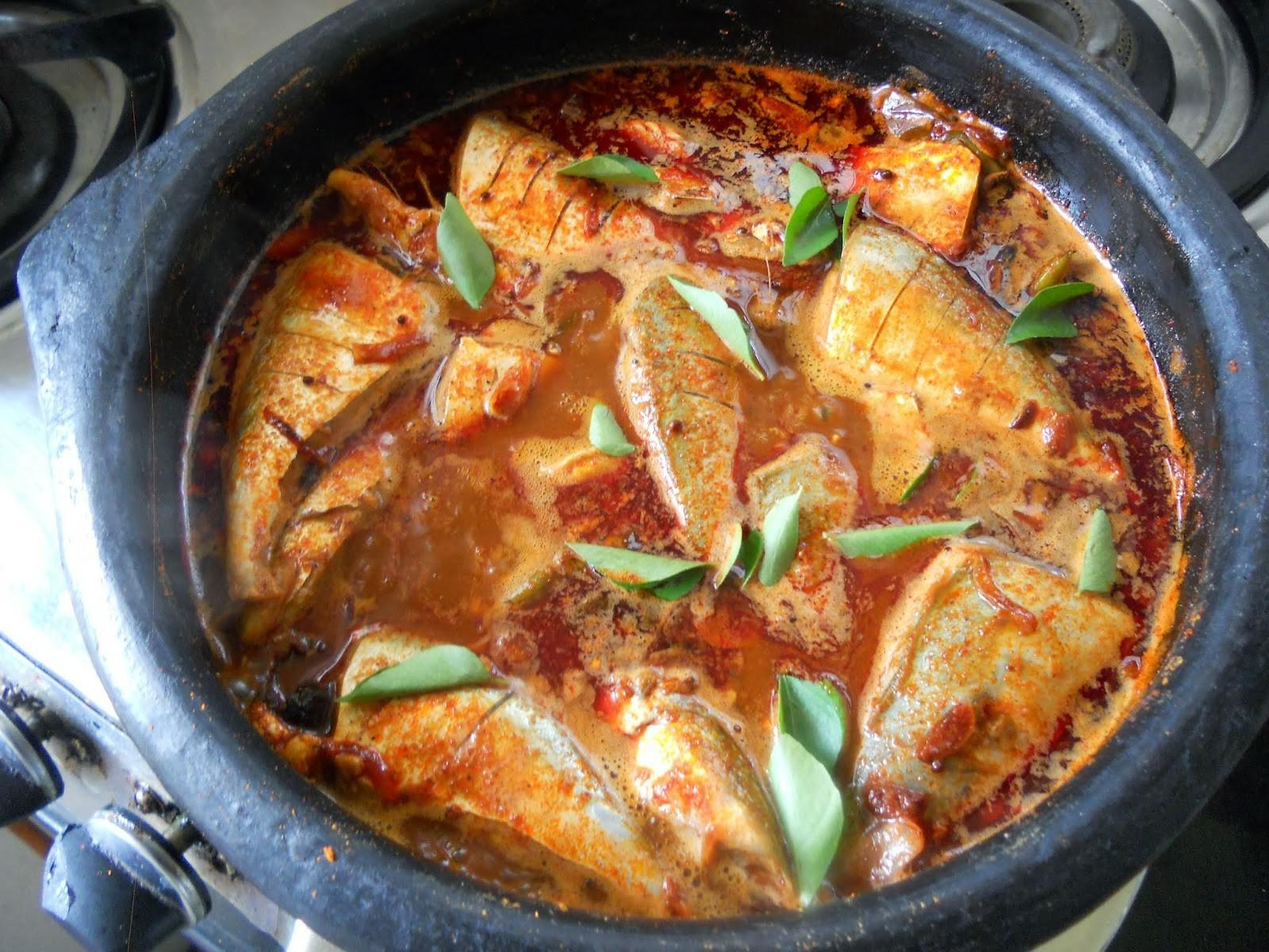FishCurry: (173, 48, 1180, 916)
